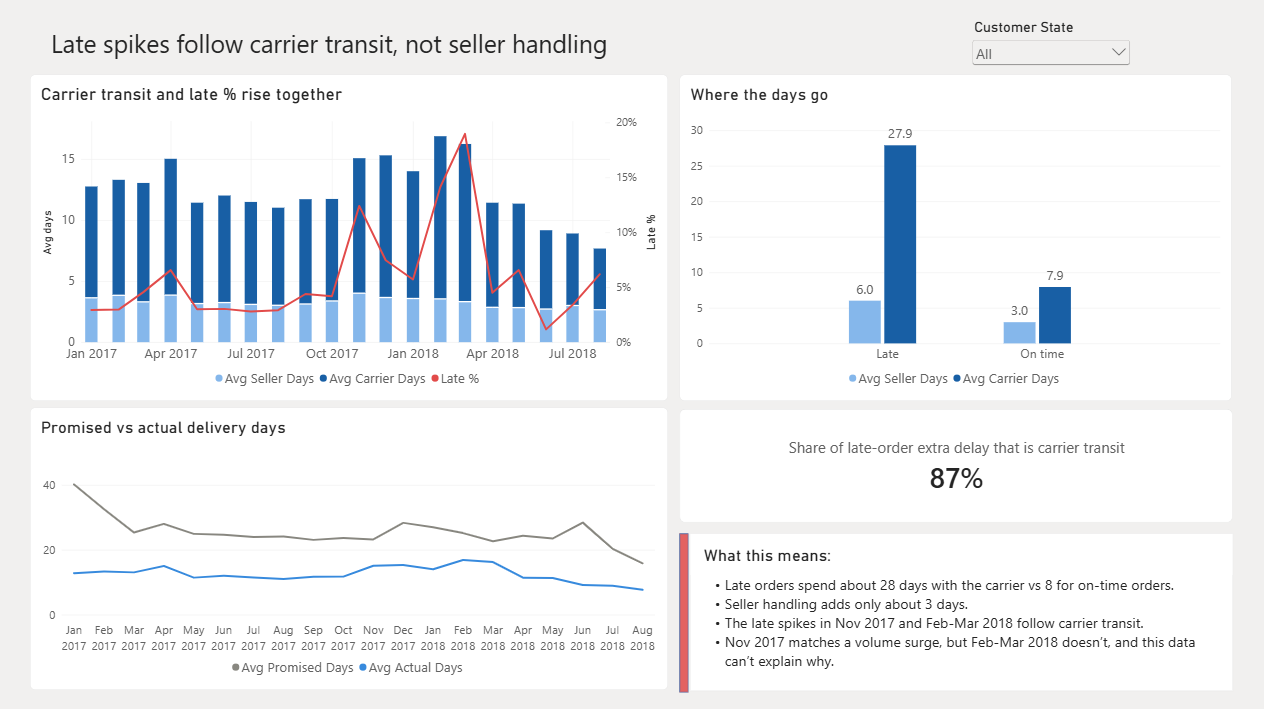

Layout of this report page (visuals, bound fields, positions):
{"tool":"powerbi","page":{"name":"Where the Delay Happens","canvas":[1920,1080],"ordinal":2},"visuals":[{"type":"textbox","box":[76.9,43.6,1151.3,71.8],"z":0},{"type":"slicer","fields":{"Values":["bi_orders.customer_state"]},"box":[1469.2,30.8,248.7,94.9],"z":1000},{"type":"lineStackedColumnComboChart","title":"Carrier transit and late % rise together","fields":{"Category":["bi_orders.purchase_month"],"Y":["bi_orders.Avg Seller Days","bi_orders.Avg Carrier Days"],"Y2":["bi_orders.Late %"]},"box":[46.4,116.1,966.7,494.9],"z":2000},{"type":"clusteredColumnChart","title":"Where the days go","fields":{"Category":["bi_orders.Delivery Status"],"Y":["bi_orders.Avg Seller Days","bi_orders.Avg Carrier Days"]},"box":[1030.2,116.8,836.8,494.7],"z":3000},{"type":"lineChart","title":"Promised vs actual delivery days","fields":{"Category":["bi_orders.Month Label"],"Y":["bi_orders.Avg Promised Days","bi_orders.Avg Actual Days"]},"box":[46.4,621.2,966.7,428.2],"z":4000},{"type":"cardVisual","fields":{"Data":["bi_orders.Carrier Share of Extra Delay"]},"box":[1028.8,622,838.6,172.7],"z":5000},{"type":"textbox","title":"What this means:","box":[1044.7,810.6,822.7,238.6],"z":6000},{"type":"shape","box":[1029.5,811.4,13.6,240.9],"z":7000}]}

Visuals, with their boxes in screenshot pixels (x1, y1, x2, y2), scaled from the page's 1920x1080 canvas onto the 1264x709 screenshot:
textbox: {"left": 51, "top": 29, "right": 809, "bottom": 76}
slicer - bi_orders.customer_state: {"left": 967, "top": 20, "right": 1131, "bottom": 83}
"Carrier transit and late % rise together" lineStackedColumnComboChart: {"left": 31, "top": 76, "right": 667, "bottom": 401}
"Where the days go" clusteredColumnChart: {"left": 678, "top": 77, "right": 1229, "bottom": 401}
"Promised vs actual delivery days" lineChart: {"left": 31, "top": 408, "right": 667, "bottom": 689}
cardVisual - bi_orders.Carrier Share of Extra Delay: {"left": 677, "top": 408, "right": 1229, "bottom": 522}
"What this means:" textbox: {"left": 688, "top": 532, "right": 1229, "bottom": 689}
shape: {"left": 678, "top": 533, "right": 687, "bottom": 691}
